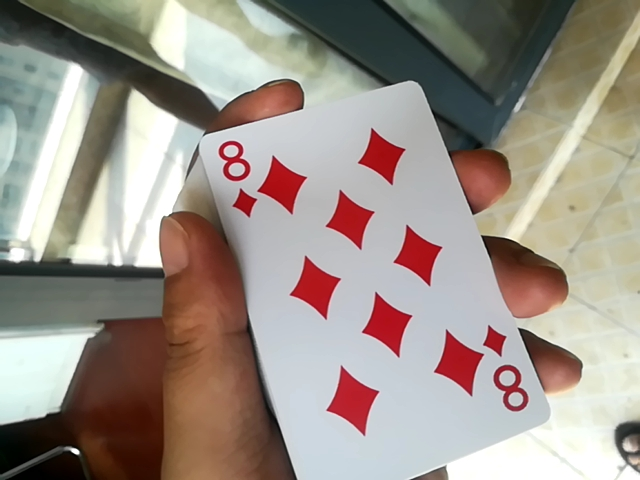fk 8: (169, 57, 539, 476)
